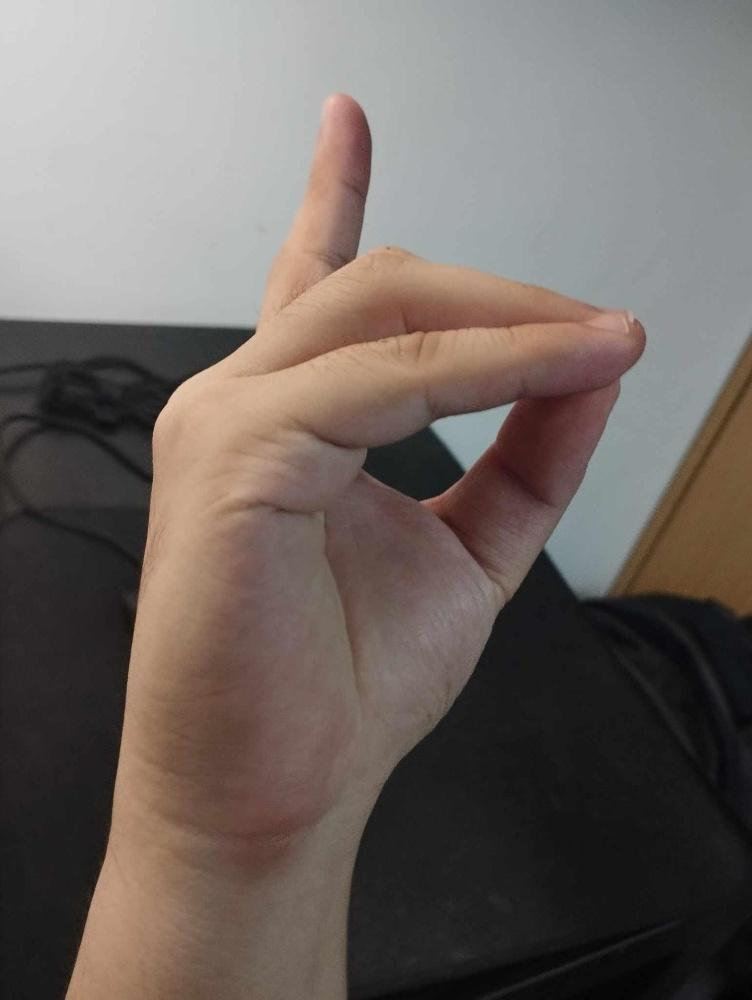d: (124, 87, 650, 850)
